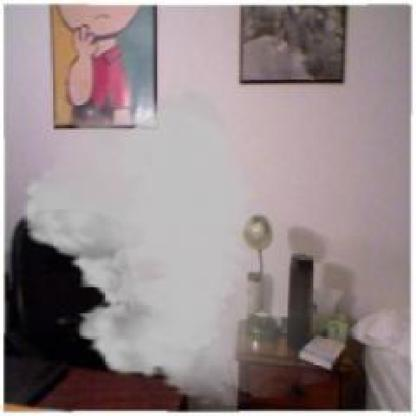Smoke: (10, 63, 352, 405)
